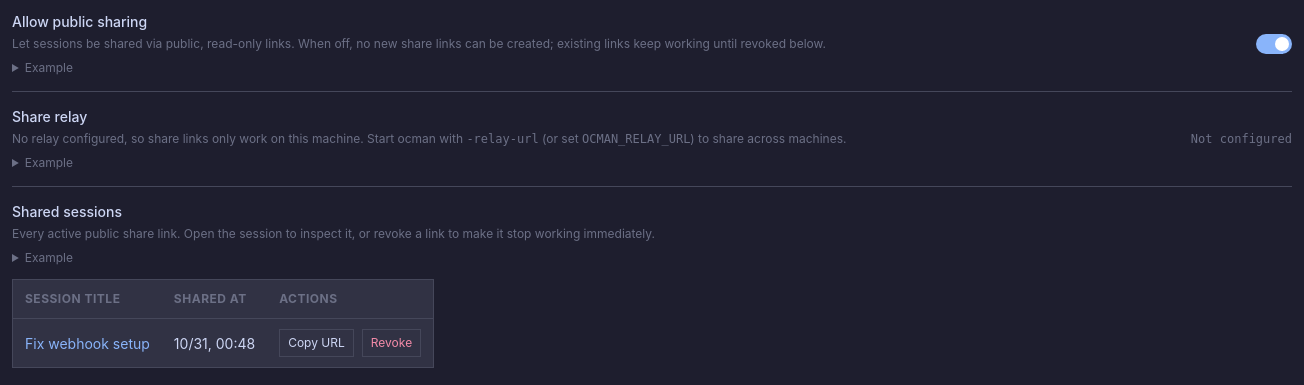
Test: SharingSettings › copies the share URL from the table
The image size is (1304, 385).
Click the button "Copy URL". click: [316, 343]
box: [279, 329, 354, 357]
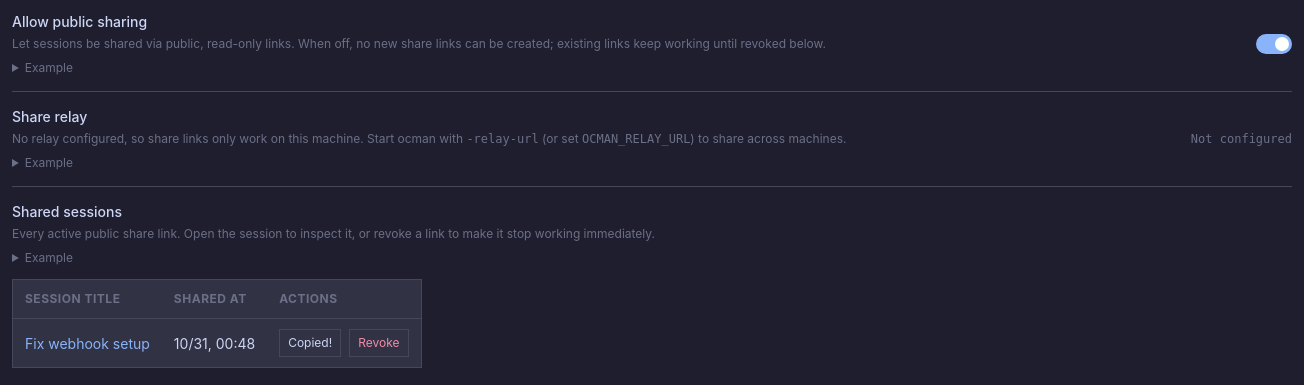
Now the button "Copied!" is shown, box [279, 329, 341, 357]
